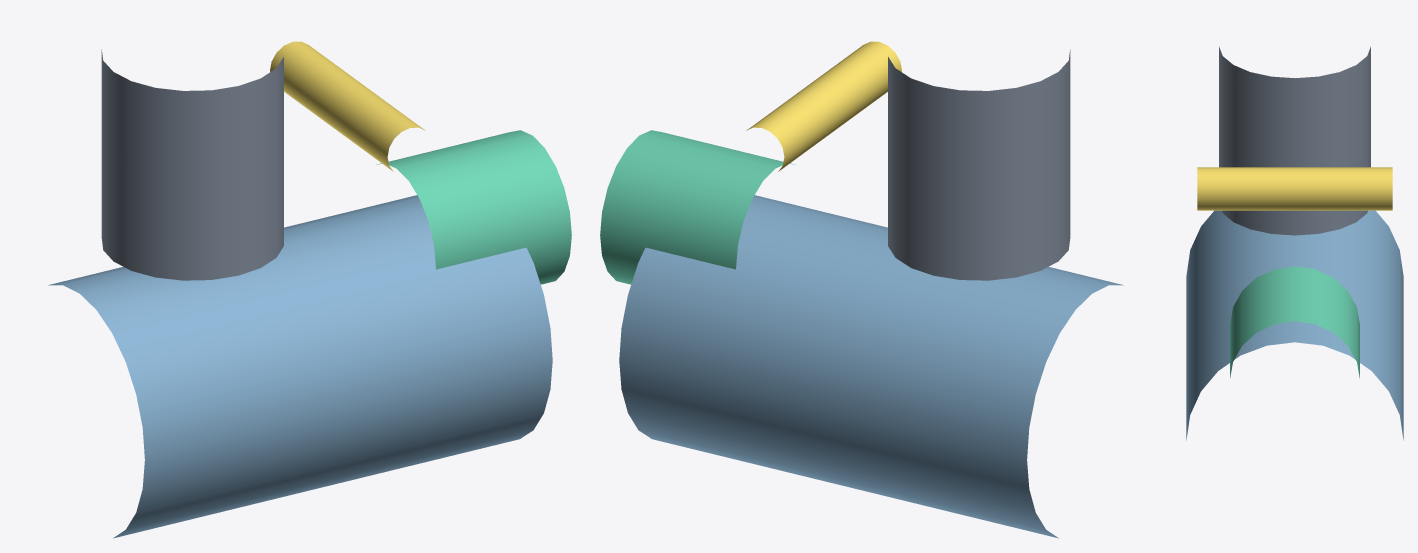
File: reciprocating_air_compressor.glb
3 views of the same model, side by side, from view 1: azimuth 30°, elevation 25°; view 2: azimuth 150°, elevation 25°; view 3: azimuth 270°, elevation 25° (orthographic). The views are drawn at different scales.
Parts seen in each view (by area): view 1: AirReceiverStorageTank, CompressorCylinderCasting, ElectricDriveMotorHead, IntercoolerCoolingCoil; view 2: AirReceiverStorageTank, CompressorCylinderCasting, ElectricDriveMotorHead, IntercoolerCoolingCoil; view 3: AirReceiverStorageTank, CompressorCylinderCasting, IntercoolerCoolingCoil, ElectricDriveMotorHead.
Boxes of the visible parts, x1,y1,x2,y2 form: AirReceiverStorageTank: (48, 195, 552, 538); CompressorCylinderCasting: (101, 49, 283, 280); ElectricDriveMotorHead: (376, 130, 571, 284); IntercoolerCoolingCoil: (270, 41, 425, 171); AirReceiverStorageTank: (619, 195, 1123, 538); CompressorCylinderCasting: (888, 49, 1070, 280); ElectricDriveMotorHead: (600, 130, 795, 284); IntercoolerCoolingCoil: (746, 41, 901, 171); AirReceiverStorageTank: (1186, 210, 1403, 440); CompressorCylinderCasting: (1219, 46, 1370, 235); IntercoolerCoolingCoil: (1197, 167, 1392, 210); ElectricDriveMotorHead: (1230, 266, 1359, 378).
Size of the model in its own units: 2 by 1.9 by 1.
